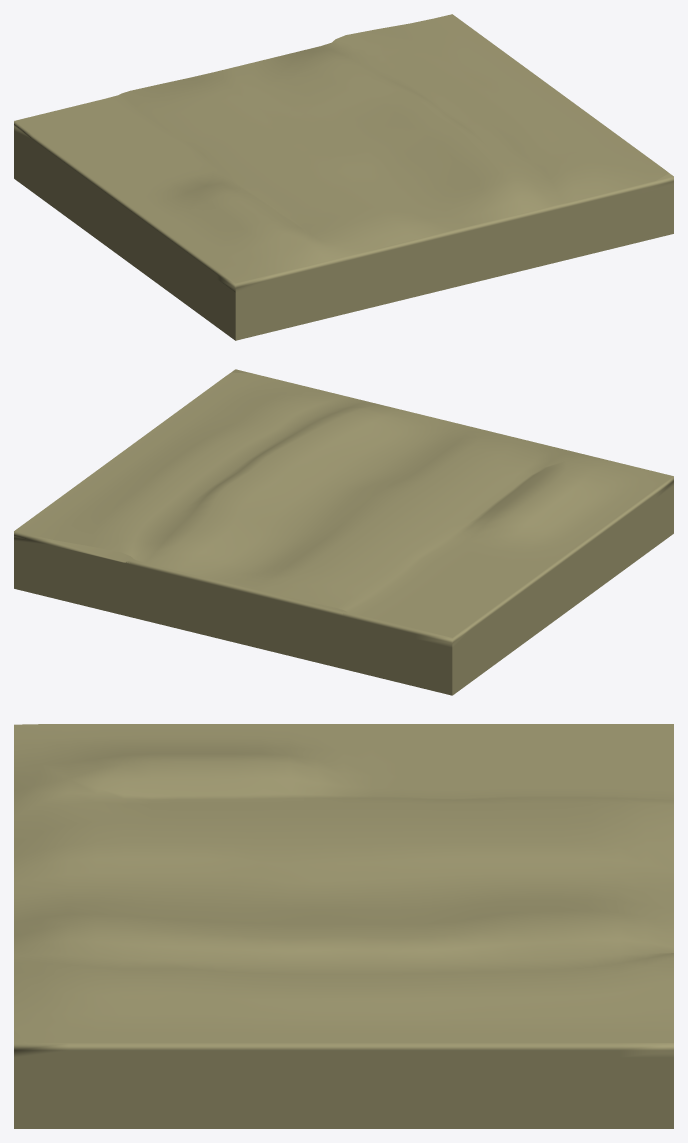
Rendered from seaFloorL.fbx.
The picture shows the model from 3 angles, top to bottom: view 1: azimuth 30°, elevation 25°; view 2: azimuth 150°, elevation 25°; view 3: azimuth 270°, elevation 25°; orthographic projection. The views are drawn at different scales.
Parts seen in each view (by area): view 1: polySurface2, polySurface1; view 2: polySurface2, polySurface1; view 3: polySurface2, polySurface1.
Part boxes in pixels (x1,y1,x2,y2): polySurface2: [14, 14, 668, 283]; polySurface1: [14, 121, 673, 340]; polySurface2: [14, 372, 673, 637]; polySurface1: [14, 369, 673, 695]; polySurface2: [14, 724, 673, 1043]; polySurface1: [14, 1030, 673, 1128].
Bounding box in the file's own units: 8 × 1.18 × 7.
